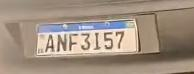Placa_mercosul_carro: (36, 19, 141, 57)
